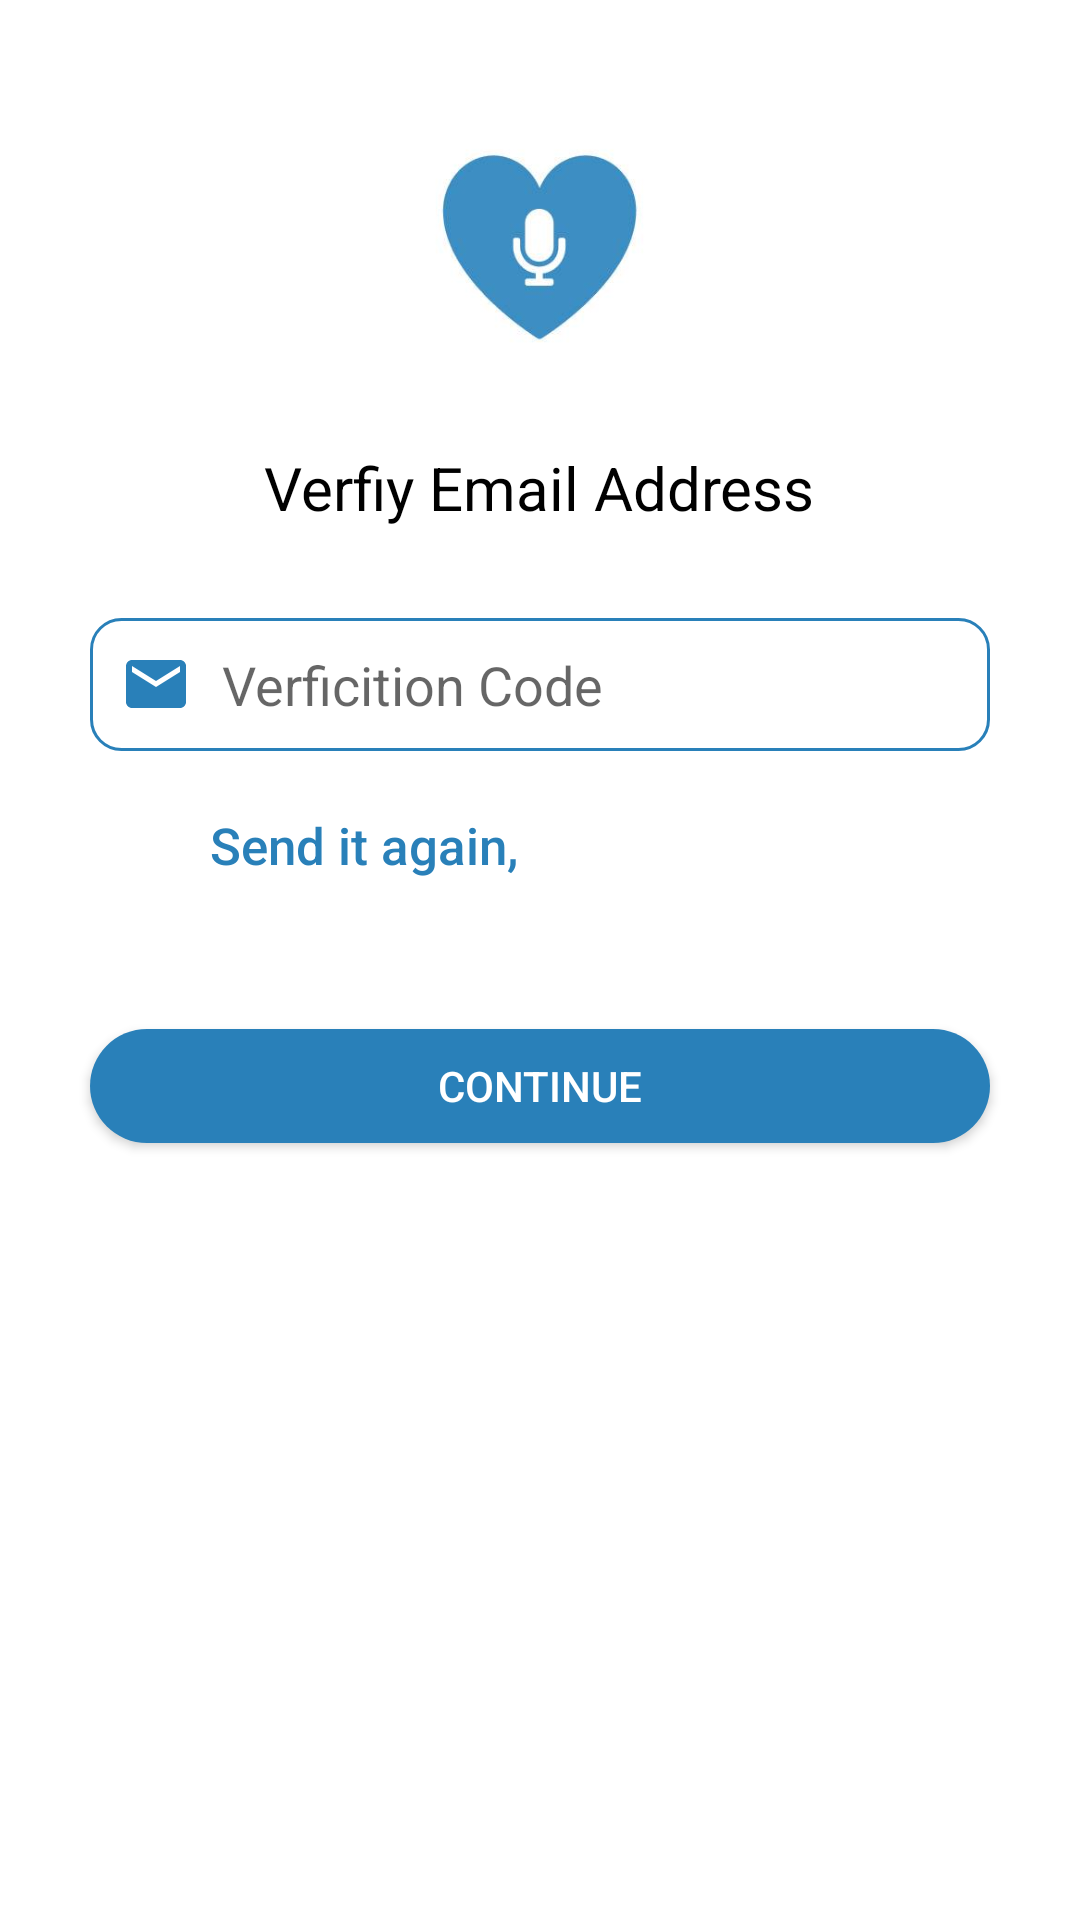

Screen size 1080x1920. Icon name, then its center in pixels as point (x, y):
bluerecoedheart: point (539, 247)
